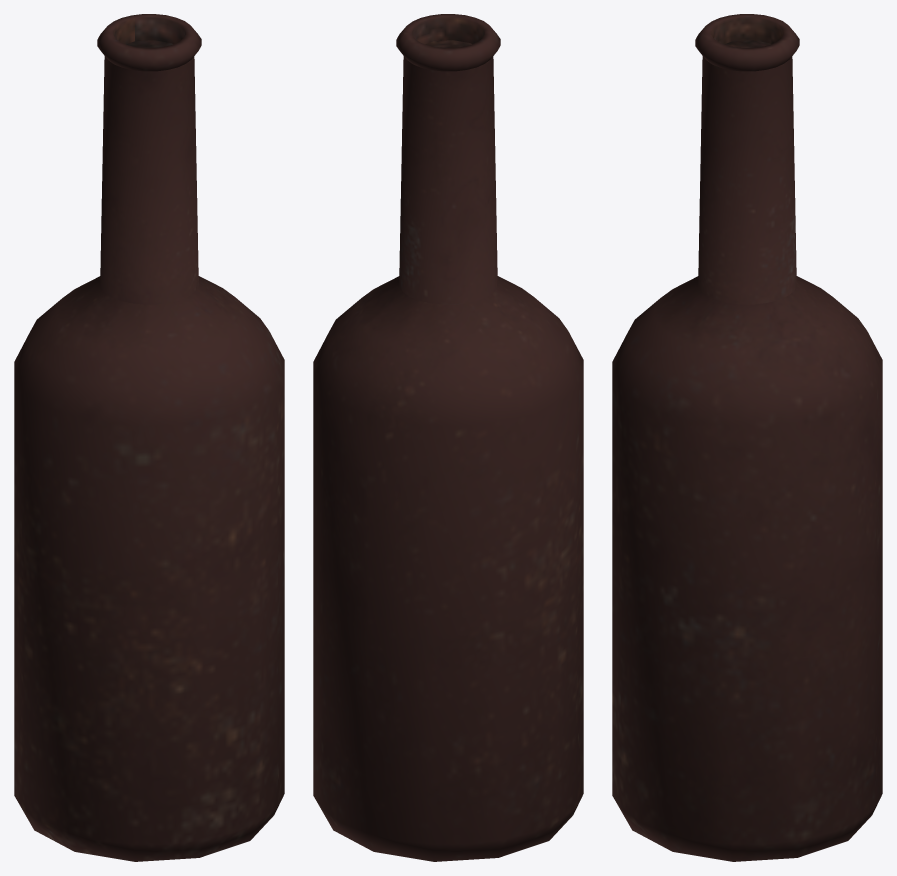
The model's file is sb_obj_indoor001_OldKitchen_bin2.fbx.
The picture shows the model from 3 angles, left to right: view 1: azimuth 30°, elevation 25°; view 2: azimuth 150°, elevation 25°; view 3: azimuth 270°, elevation 25°; orthographic projection.
Visible parts, largest first — view 1: sb_obj_indoor001_OldKitchen_bin2; view 2: sb_obj_indoor001_OldKitchen_bin2; view 3: sb_obj_indoor001_OldKitchen_bin2.
Part boxes in pixels (x1,y1,x2,y2): sb_obj_indoor001_OldKitchen_bin2: [14, 14, 284, 861]; sb_obj_indoor001_OldKitchen_bin2: [313, 14, 583, 861]; sb_obj_indoor001_OldKitchen_bin2: [612, 14, 882, 861].
Size of the model in its own units: 0.1231 by 0.3899 by 0.1231.
